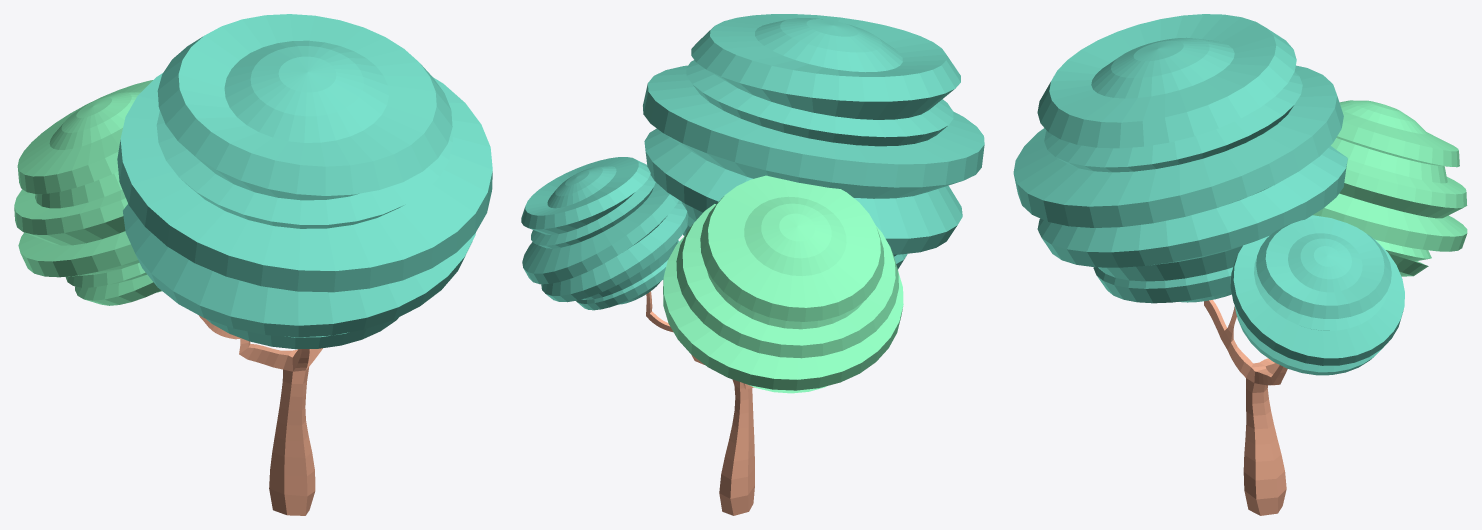
File: MSH_tree2.fbx
The picture shows the model from 3 angles, left to right: view 1: azimuth 30°, elevation 25°; view 2: azimuth 150°, elevation 25°; view 3: azimuth 270°, elevation 25°; orthographic projection. The views are drawn at different scales.
Visible parts, largest first — view 1: Tree1; view 2: Tree1; view 3: Tree1.
Boxes of the visible parts, x1,y1,x2,y2 form: Tree1: (14,14,492,515); Tree1: (521,14,984,515); Tree1: (1013,14,1467,515).
Size of the model in its own units: 1315 by 1212 by 1423.
